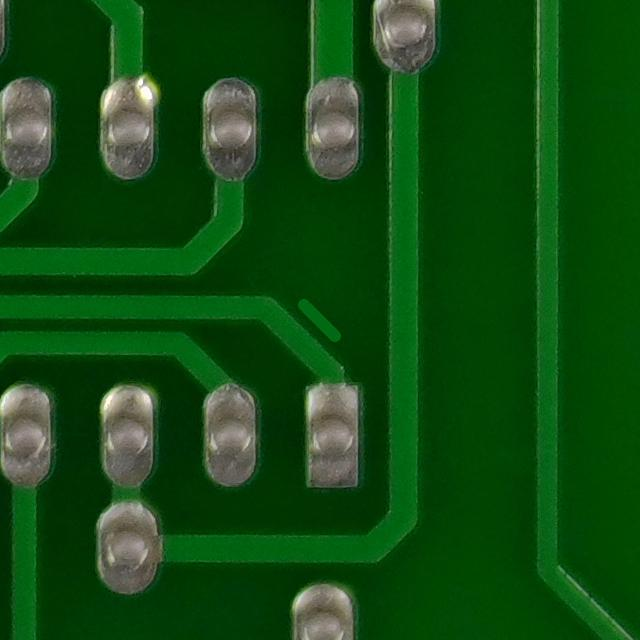spurious_copper: (288, 283, 352, 357)
